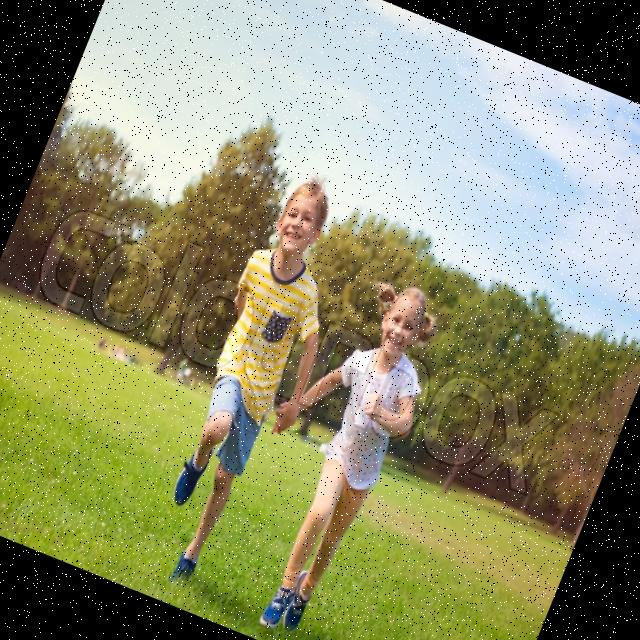Person: (126, 168, 379, 601), (201, 257, 462, 640)
